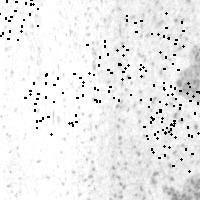pitted_surface: (60, 6, 198, 198), (2, 2, 50, 194), (82, 40, 140, 100), (24, 73, 82, 133), (143, 111, 200, 170), (126, 12, 182, 70), (148, 82, 200, 137), (0, 0, 37, 39)
